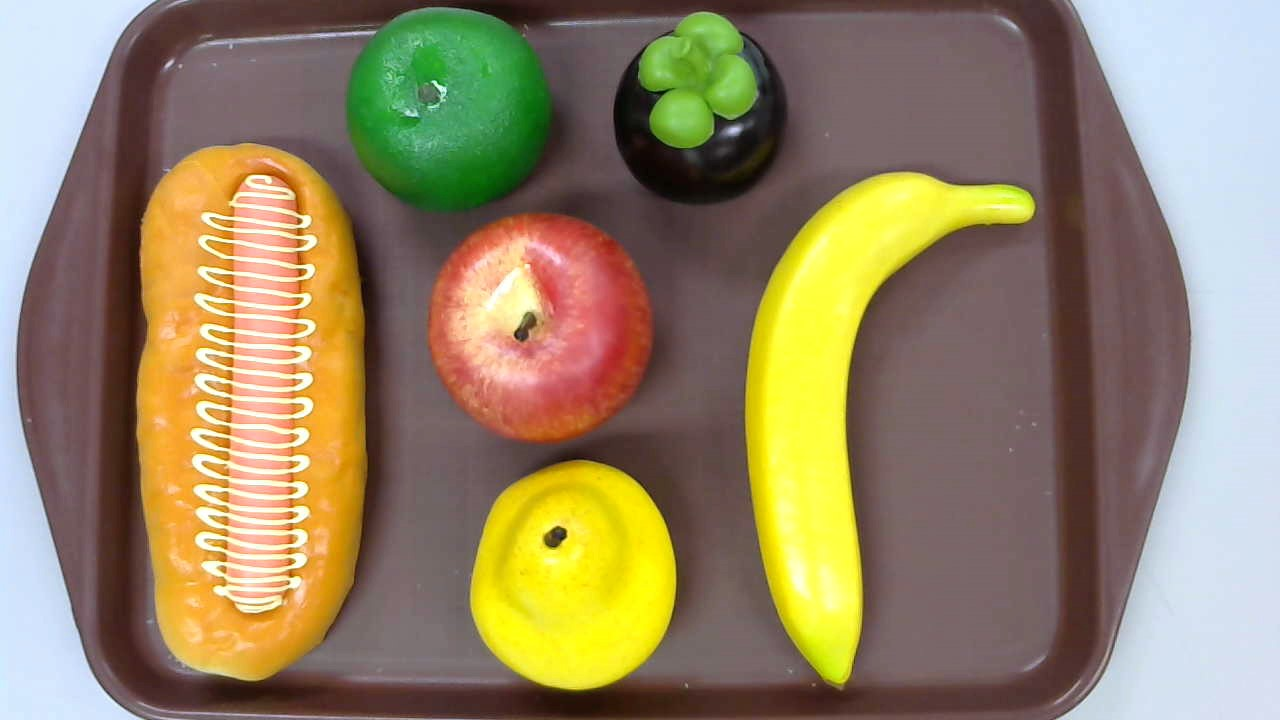banana: (743, 172, 1034, 688)
green orange: (346, 7, 552, 212)
hot dog: (134, 141, 366, 683)
mangosteen: (614, 12, 788, 205)
red apple: (428, 212, 654, 447)
yellow pear: (470, 459, 677, 690)
